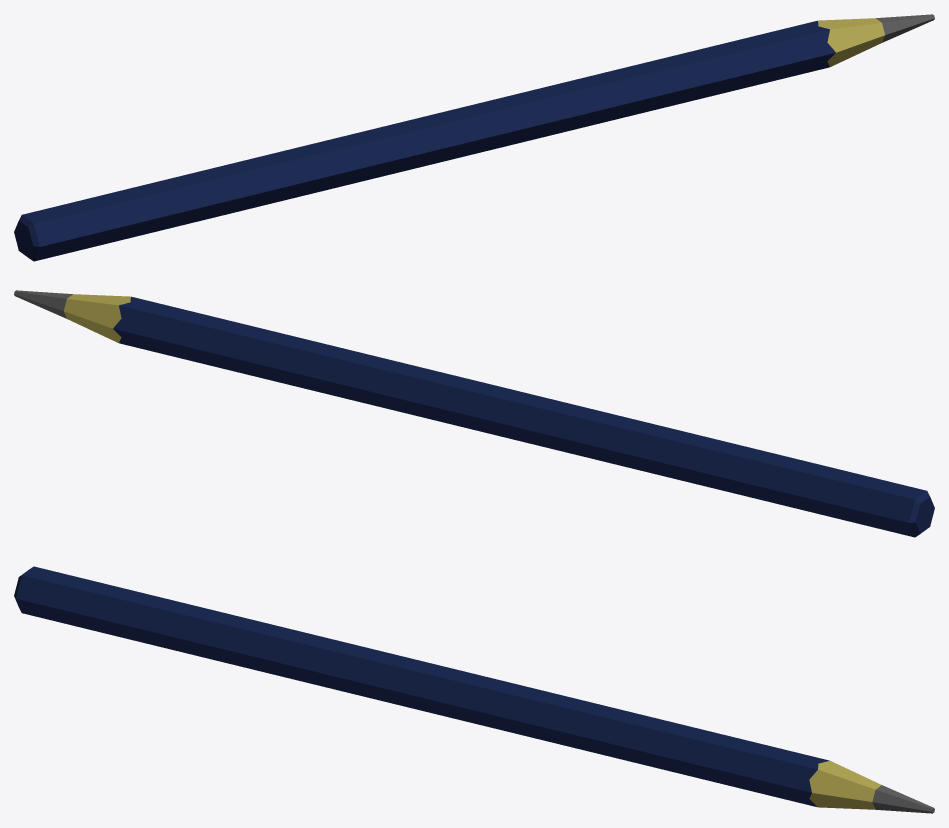
Rendered from pencilMedium.fbx.
3 renders of one model, top to bottom at view 1: azimuth 30°, elevation 25°; view 2: azimuth 150°, elevation 25°; view 3: azimuth 330°, elevation 25°, orthographic.
Visible parts, largest first — view 1: Cylinder, Cylinder.002, Cylinder.001; view 2: Cylinder, Cylinder.002, Cylinder.001; view 3: Cylinder, Cylinder.002, Cylinder.001.
Part boxes in pixels (bbox=[...]): Cylinder: bbox=[14, 20, 835, 261]; Cylinder.002: bbox=[818, 18, 884, 66]; Cylinder.001: bbox=[876, 14, 934, 42]; Cylinder: bbox=[113, 296, 934, 537]; Cylinder.002: bbox=[64, 294, 130, 342]; Cylinder.001: bbox=[14, 290, 72, 318]; Cylinder: bbox=[14, 566, 829, 807]; Cylinder.002: bbox=[809, 761, 881, 809]; Cylinder.001: bbox=[872, 785, 934, 813].
Size of the model in its own units: 20.78 by 0.8275 by 0.9555.
